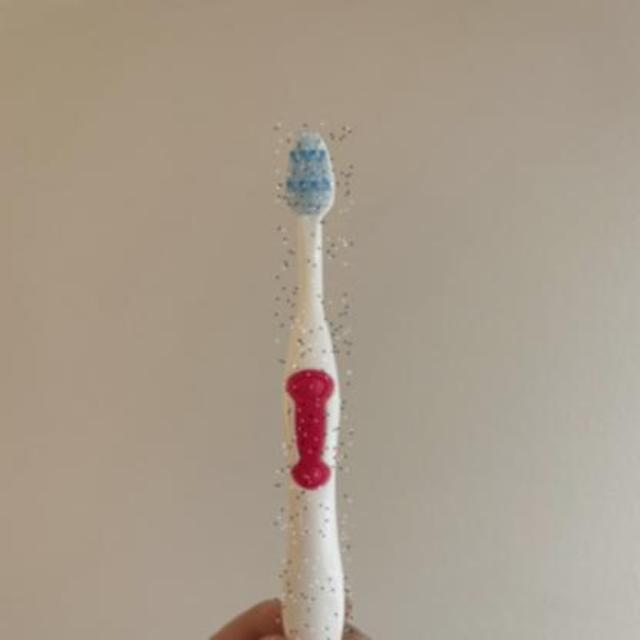toothbrush: (276, 122, 352, 640)
